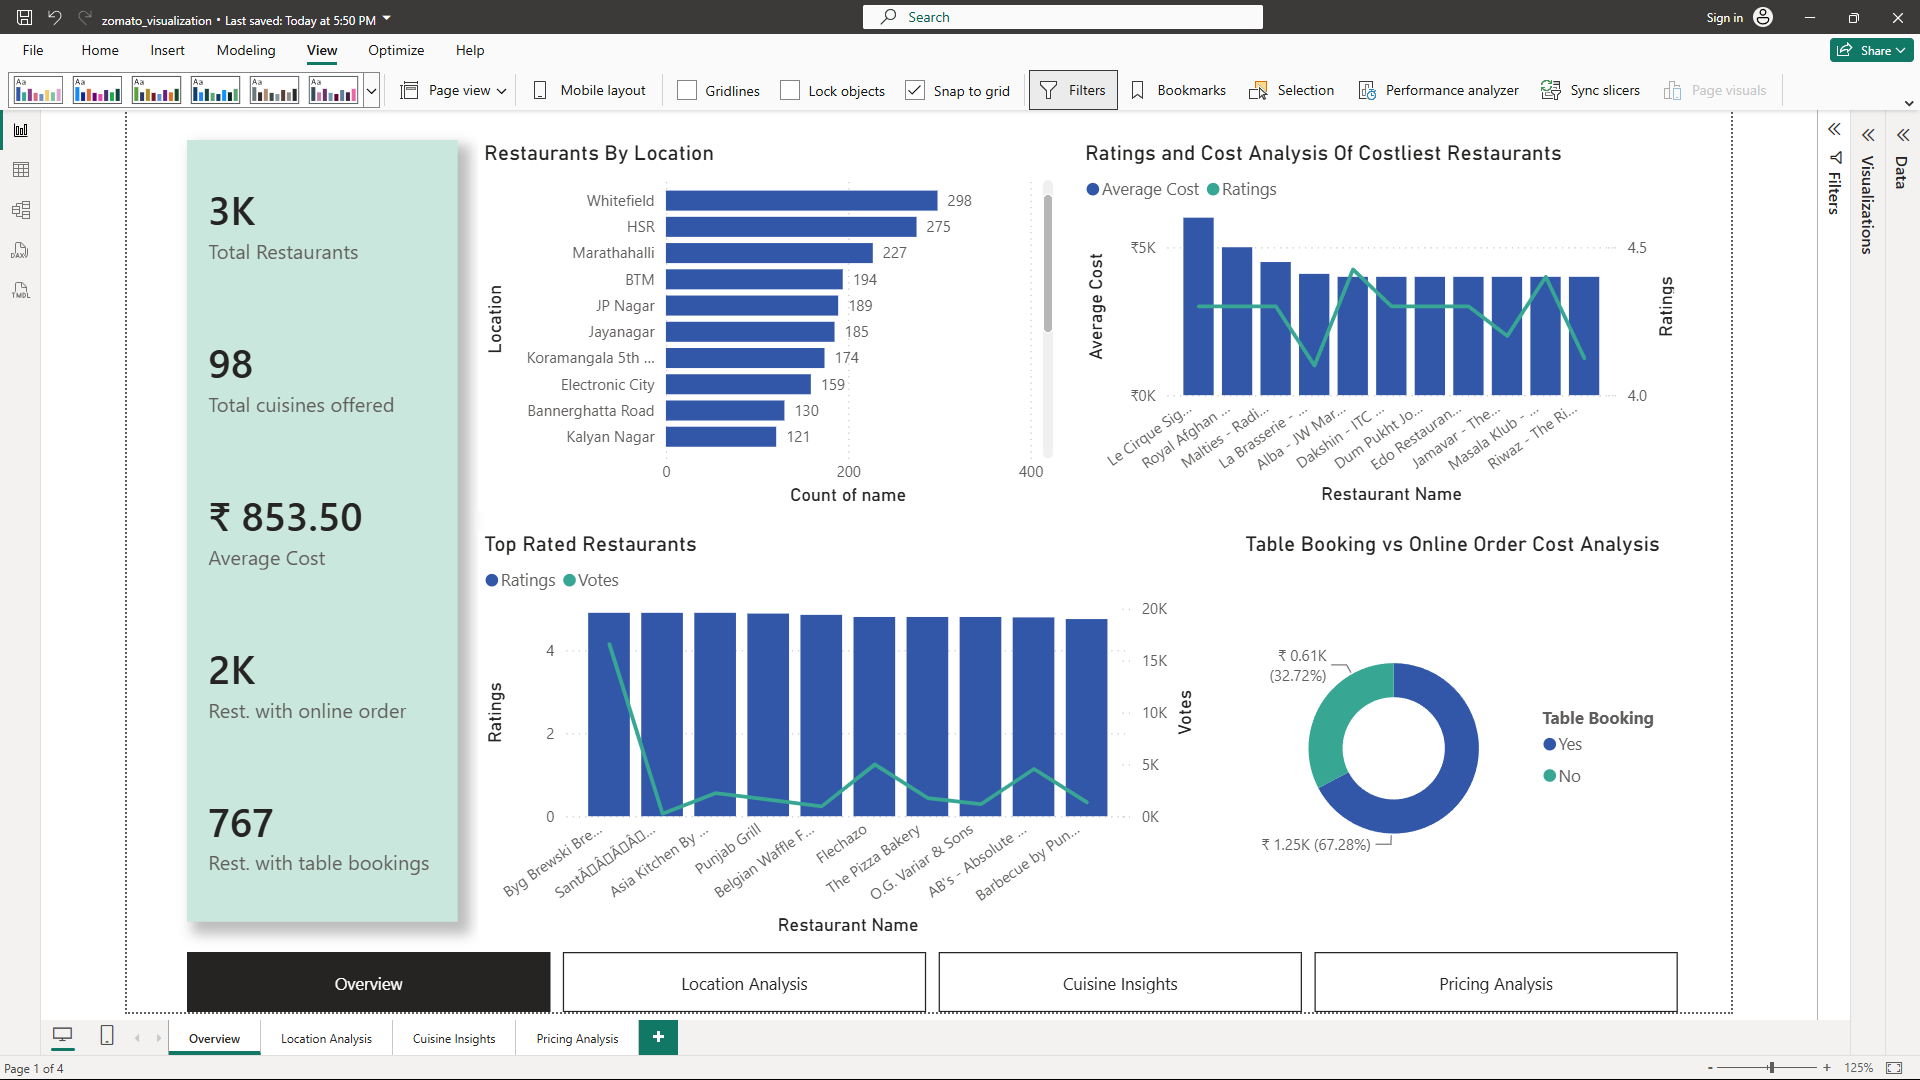

This screenshot's page, from the dashboard's own definition file:
{"tool":"powerbi","page":{"name":"Overview","canvas":[1280,720],"ordinal":0},"visuals":[{"type":"cardVisual","fields":{"Data":["fact_table.Total Restaurants","cuisines_table.Total cuisines offered","fact_table.Average Cost","fact_table.Rest. with online order","fact_table.Rest. with table bookings"]},"box":[48,24,216,624],"z":0},{"type":"barChart","title":"Restaurants By Location","fields":{"Category":["fact_table.location"],"Y":["Count(fact_table.name)"]},"box":[280,24,464,296],"z":1000},{"type":"lineClusteredColumnComboChart","title":"Top Rated Restaurants","fields":{"Category":["fact_table.name"],"Y":["Avg(fact_table.ratings(out of 5))"],"Y2":["Avg(fact_table.votes)"]},"box":[280,336,576,328],"z":2000},{"type":"lineStackedColumnComboChart","title":"Ratings and Cost Analysis Of Costliest Restaurants","fields":{"Category":["fact_table.name"],"Y":["Avg(fact_table.cost(2 People))"],"Y2":["Avg(fact_table.ratings(out of 5))"]},"box":[760,24,480,296],"z":3000},{"type":"donutChart","title":"Table Booking vs Online Order Cost Analysis","fields":{"Category":["fact_table.book_table"],"Y":["fact_table.Average Cost"]},"box":[888,336,352,328],"z":4000},{"type":"pageNavigator","box":[48,672,1192,48],"z":5000}]}

Visuals, with their boxes on the page's 1280x720 design canvas (x1, y1, x2, y2). These are canvas units, not pixel positions in the 1920x1080 screenshot, which may show the page scaled, cropped or inside an application window:
cardVisual - fact_table.Total Restaurants x cuisines_table.Total cuisines offered: bbox(48, 24, 264, 648)
"Restaurants By Location" barChart: bbox(280, 24, 744, 320)
"Top Rated Restaurants" lineClusteredColumnComboChart: bbox(280, 336, 856, 664)
"Ratings and Cost Analysis Of Costliest Restaurants" lineStackedColumnComboChart: bbox(760, 24, 1240, 320)
"Table Booking vs Online Order Cost Analysis" donutChart: bbox(888, 336, 1240, 664)
pageNavigator: bbox(48, 672, 1240, 720)
